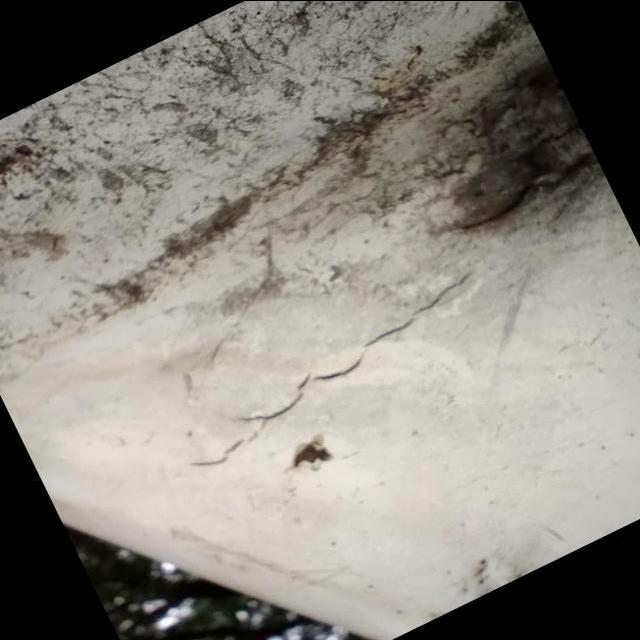defect: (185, 266, 483, 472)
